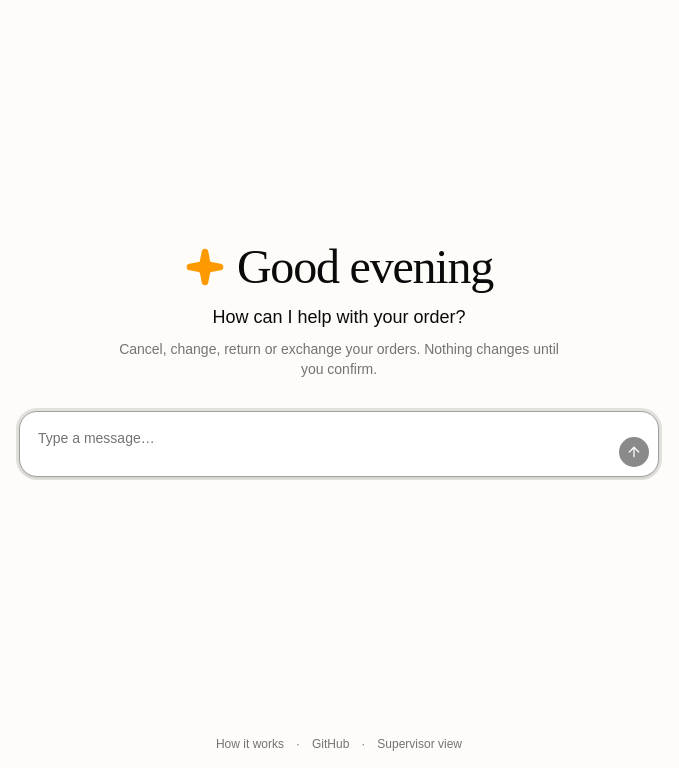
Test: ChatPage › subscribes to the chat and sends with the pending interrupt id
Expected: the heading "Good evening" is shown, [185, 240, 493, 293]
Expected: the text "Hi! How can I help?" is not shown
Type "cancel my order" into the text box labelled "message" at (319,444), box [28, 420, 610, 468]
Then press Enter
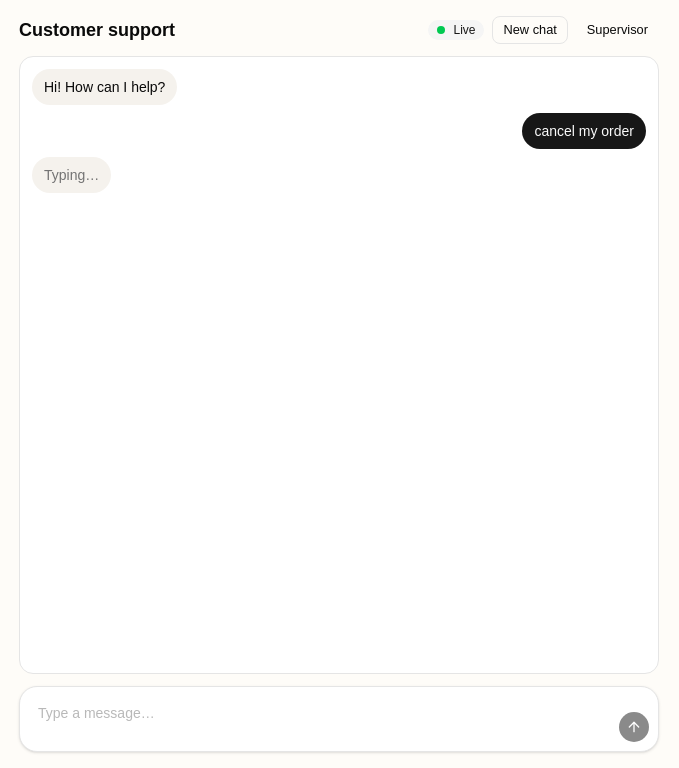
Expected: the text "cancel my order" is shown, [522, 113, 646, 149]
Expected: the text "Hi! How can I help?" is shown, [32, 69, 177, 105]
Expected: the text box labelled "message" is disabled, [28, 695, 610, 743]
